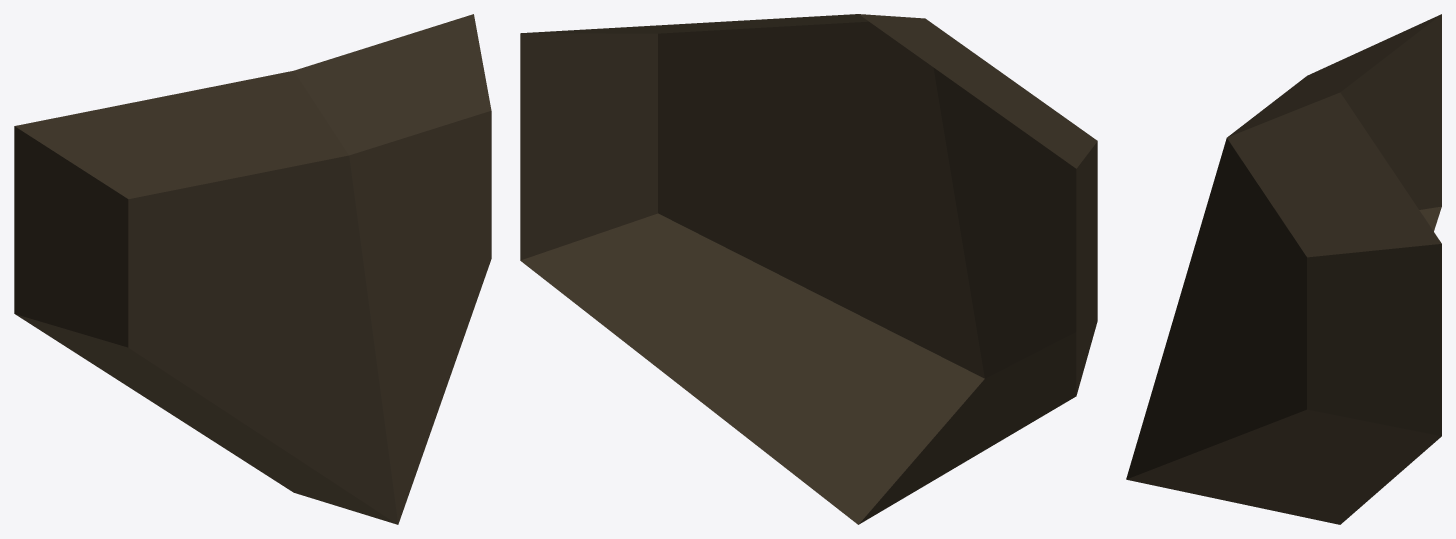
File: SM_Chr_Attach_Beard_07_Patch.fbx
The picture shows the model from 3 angles, left to right: view 1: azimuth 30°, elevation 25°; view 2: azimuth 150°, elevation 25°; view 3: azimuth 270°, elevation 25°; orthographic projection. The views are drawn at different scales.
Visible parts, largest first — view 1: SM_Chr_Attach_Beard_07_Patch; view 2: SM_Chr_Attach_Beard_07_Patch; view 3: SM_Chr_Attach_Beard_07_Patch.
Boxes of the visible parts, bbox=[...] form: SM_Chr_Attach_Beard_07_Patch: bbox=[14, 14, 491, 524]; SM_Chr_Attach_Beard_07_Patch: bbox=[520, 14, 1097, 524]; SM_Chr_Attach_Beard_07_Patch: bbox=[1126, 14, 1441, 524].
Size of the model in its own units: 3.73 by 3.28 by 2.17.
